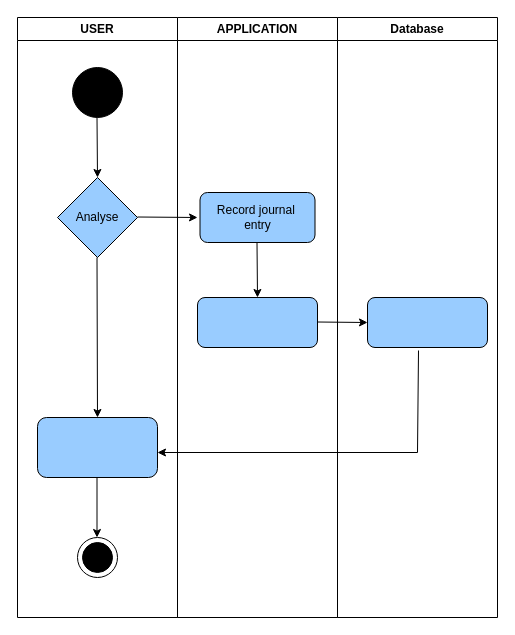
The diagram is 515 pixels wide and 635 high, and some of its shapes have lost their labels. The centre of each missing label's shape, as x and y in pixels:
"Display analysis" goes at point 257,322.
"Record analyse" goes at point 97,447.
"Save entry" goes at point 427,322.
